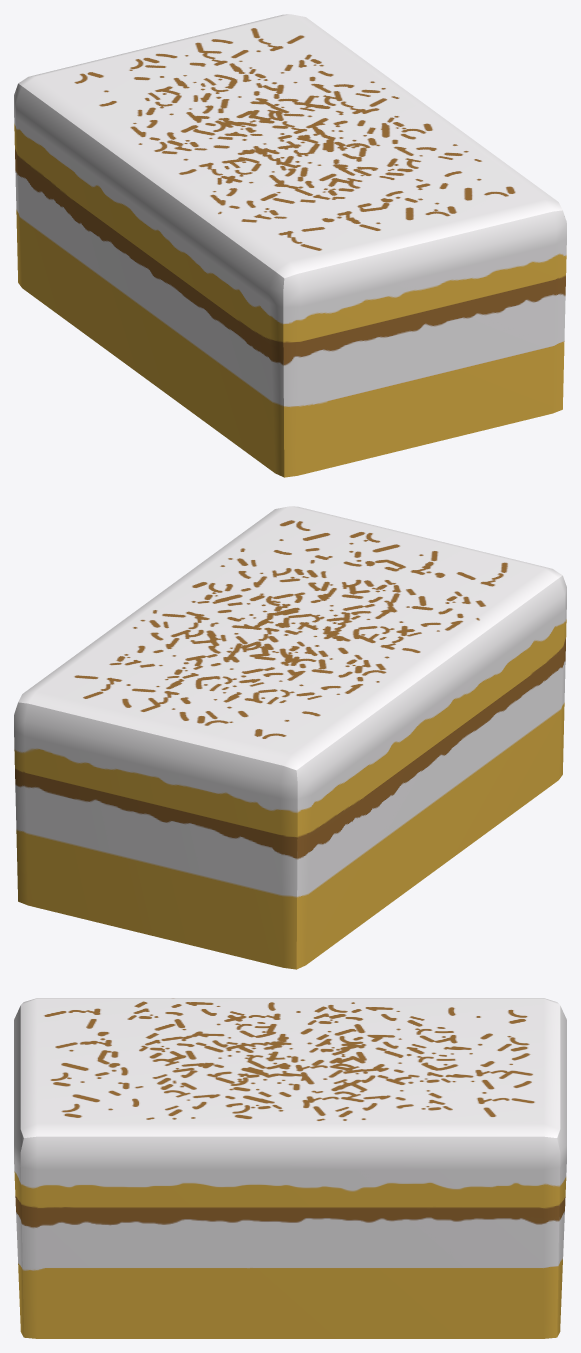
Rendered from Risoto.obj.
3 views of the same model, one above another, from view 1: azimuth 30°, elevation 25°; view 2: azimuth 150°, elevation 25°; view 3: azimuth 270°, elevation 25° (orthographic).
Parts seen in each view (by area): view 1: risoto comida; view 2: risoto comida; view 3: risoto comida.
Part boxes in pixels (x1,y1,x2,y2): risoto comida: (14, 14, 566, 477); risoto comida: (14, 506, 566, 969); risoto comida: (14, 998, 566, 1338).
Bounding box in the file's own units: 0.3302 × 0.2222 × 0.5342.
1 material, 1 textured.
